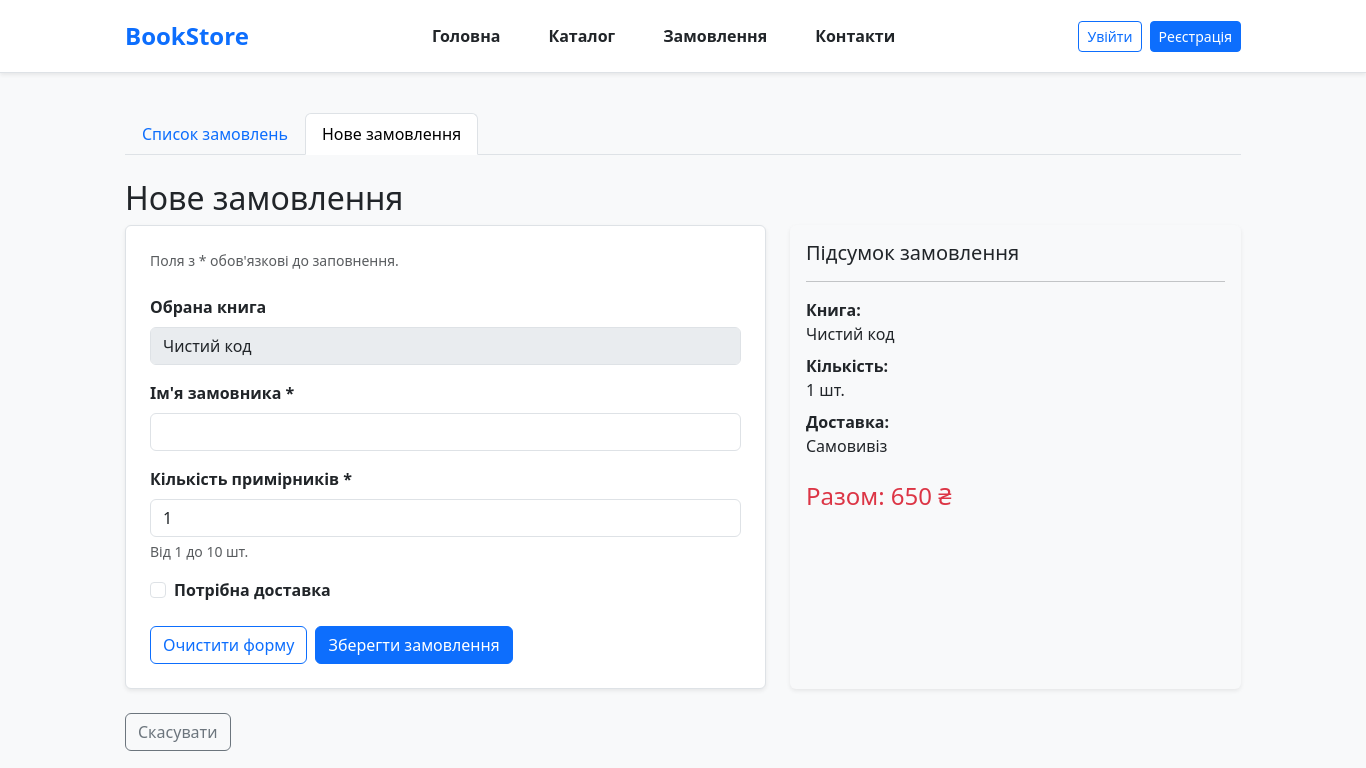
Інтеграційні та компонентні тести BookStore › блокує повторне подання під час збереження та не знищує чернетку у разі відмови сервера
Later steps or results of the test are not shown.
Type "Тарас Шевченко" into the field labelled "Ім'я замовника *". click: (446, 432)
box: top-left (150, 413), bottom-right (741, 451)
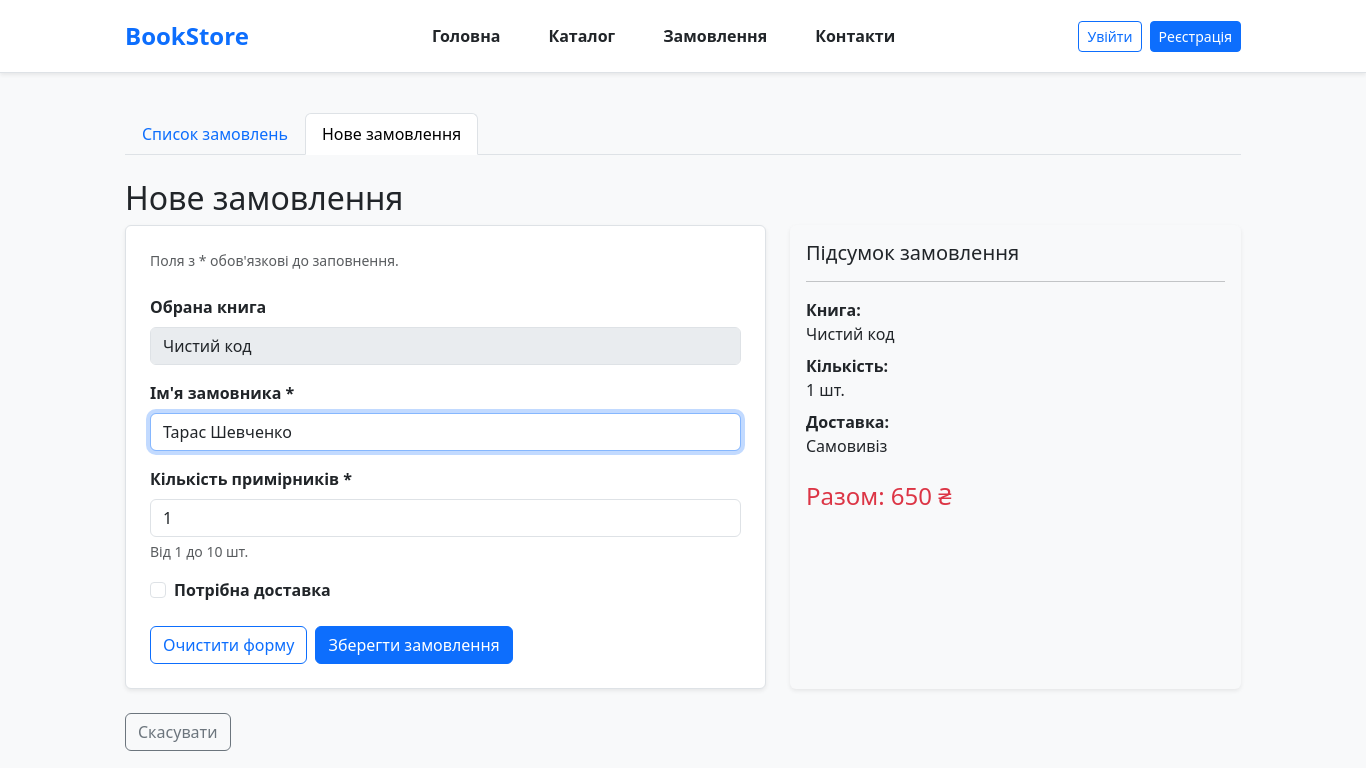
Click the button "Зберегти замовлення". click: (414, 645)
box: top-left (316, 626), bottom-right (513, 664)
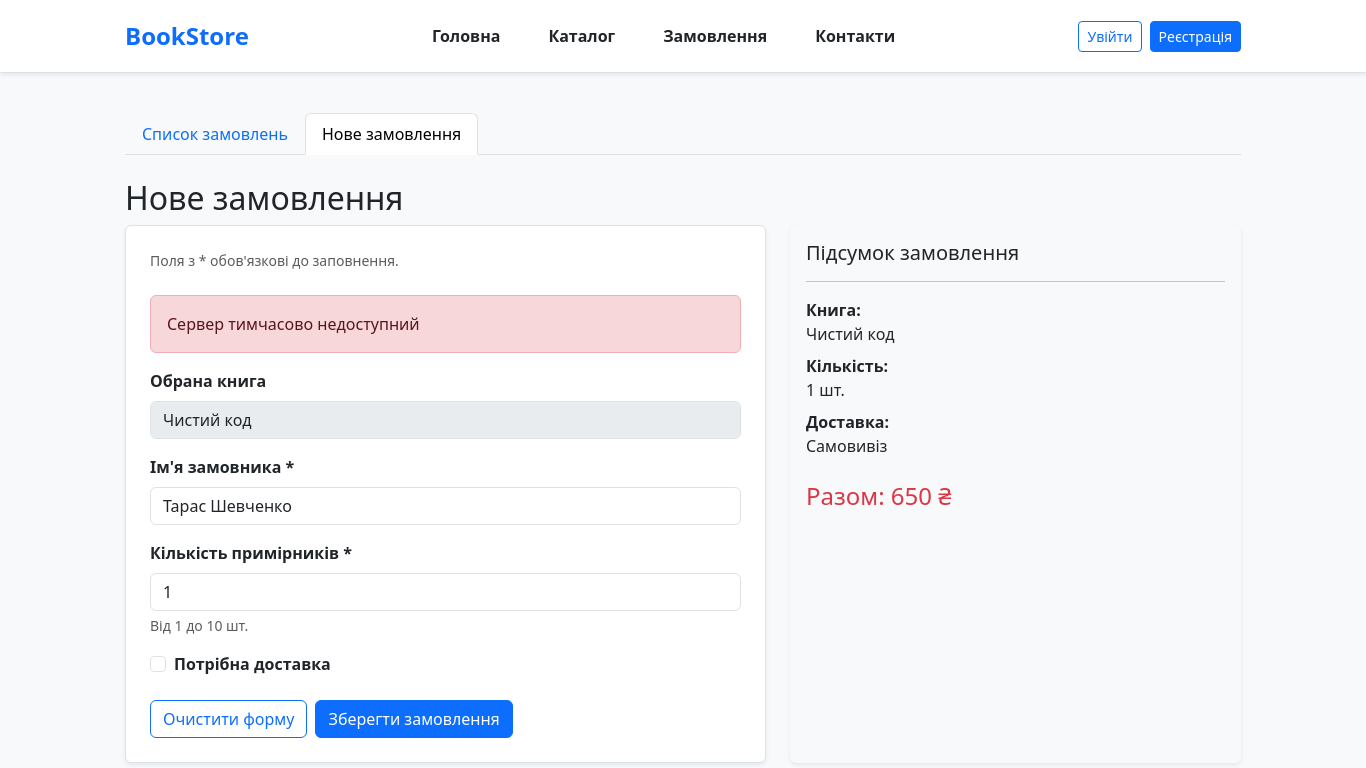
Expected: the text "Сервер тимчасово недоступний" is shown, top-left (150, 295), bottom-right (741, 353)
